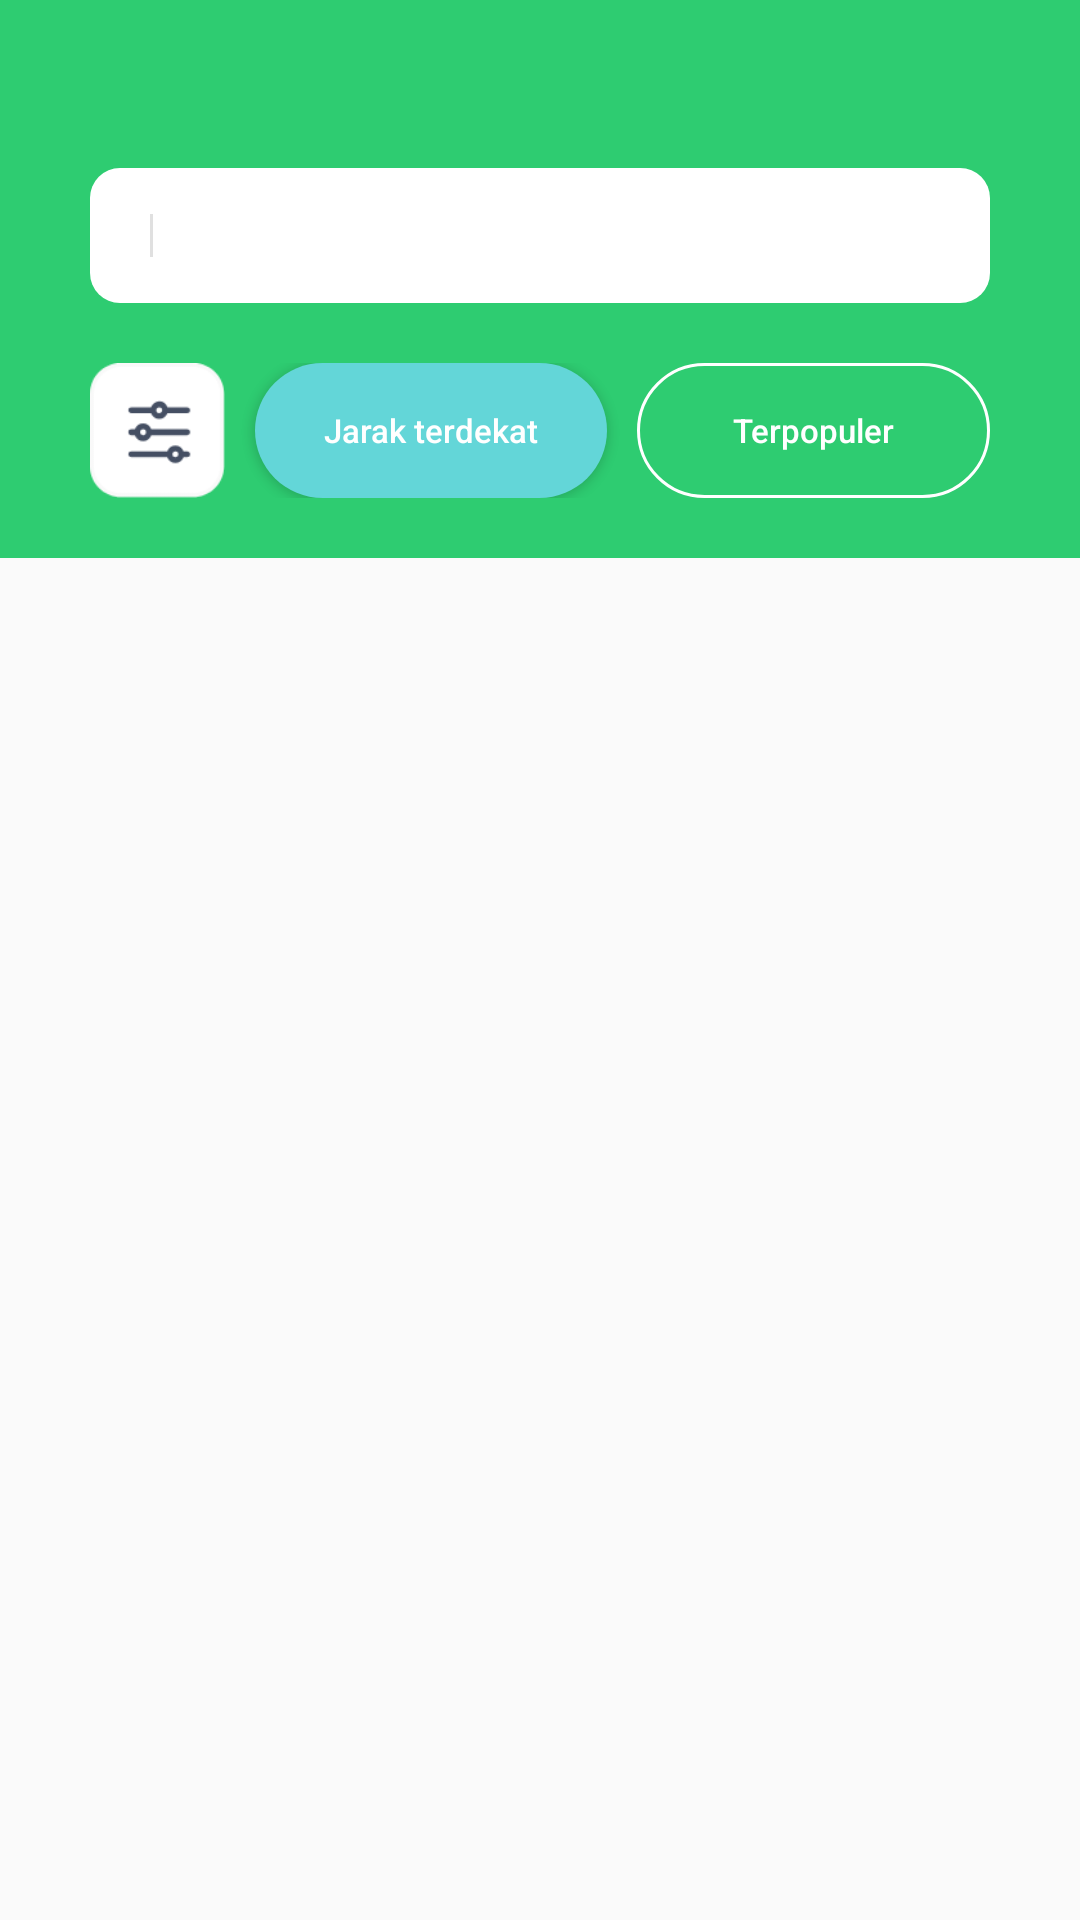

Where icons sit on this 1080×1920 app screen, as (x1,y1,x2,y2):
setting masjid: (90,363,225,498)
